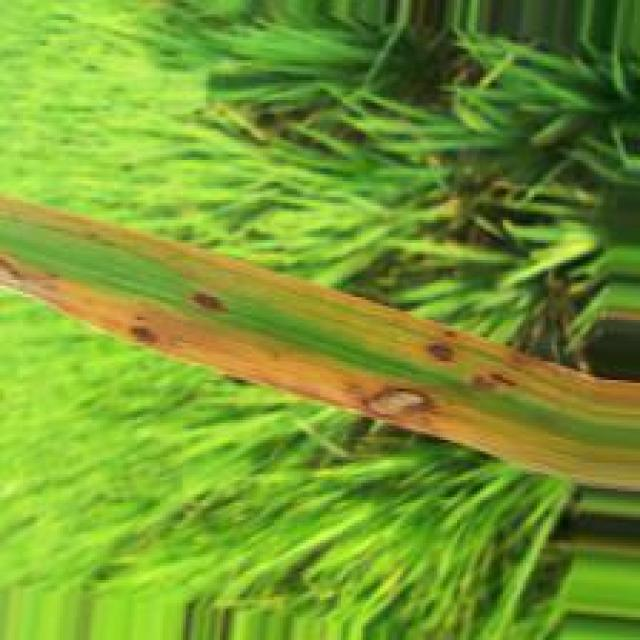Leaf_Blast: (305, 364, 473, 448), (0, 247, 124, 337)
